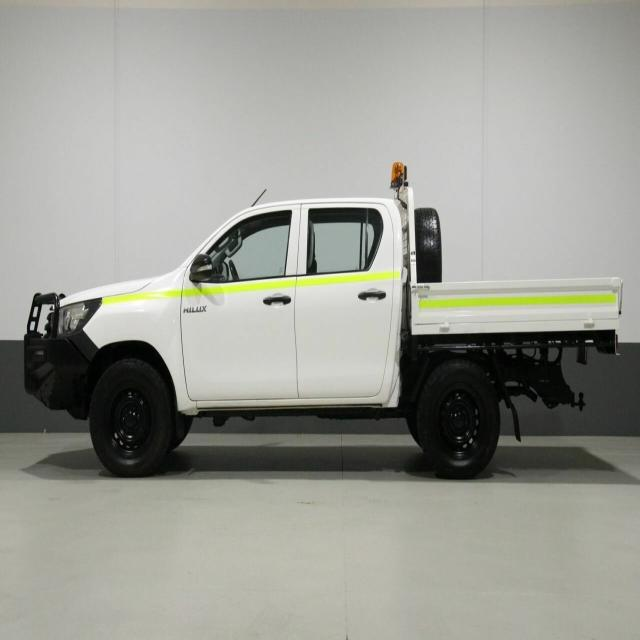light_vehicle: (21, 159, 628, 489)
